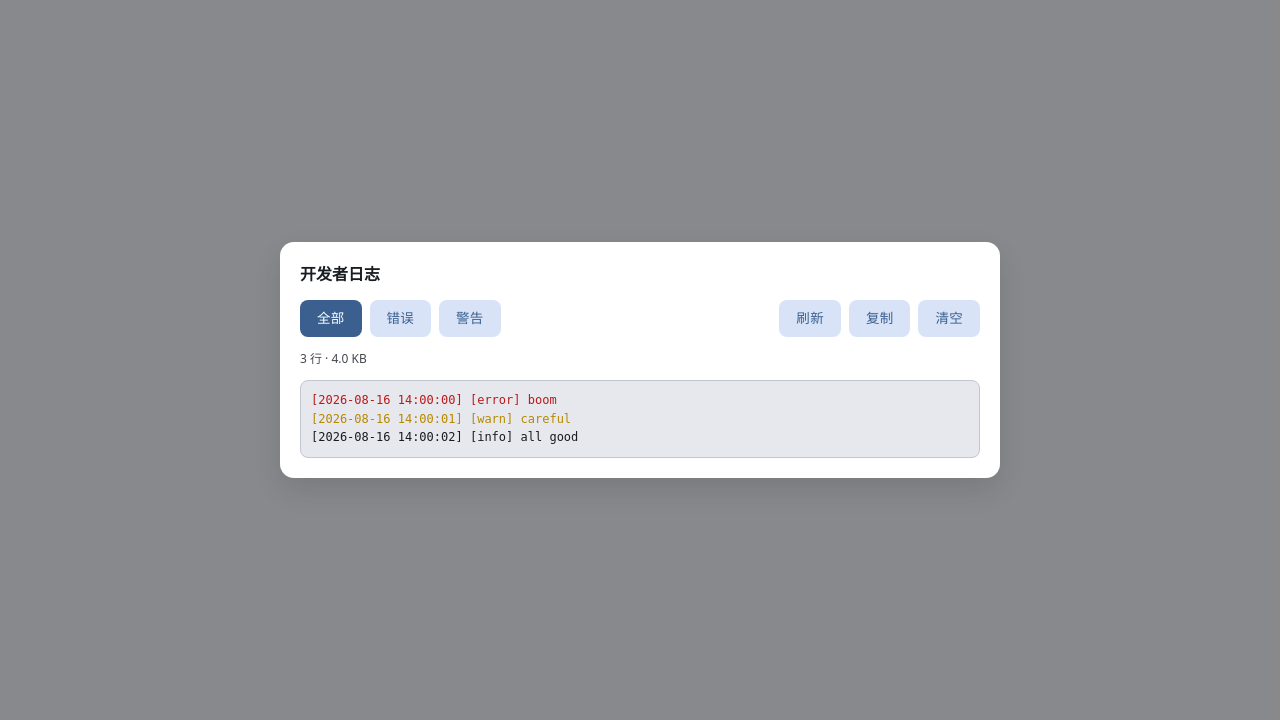
Test: DeveloperLogDialog › filters by error level
Expected: the text "[2026-08-16 14:00:00] [error] boom" is shown, [311, 393, 557, 407]
Click the button "错误" at (400, 318), box [370, 300, 431, 337]
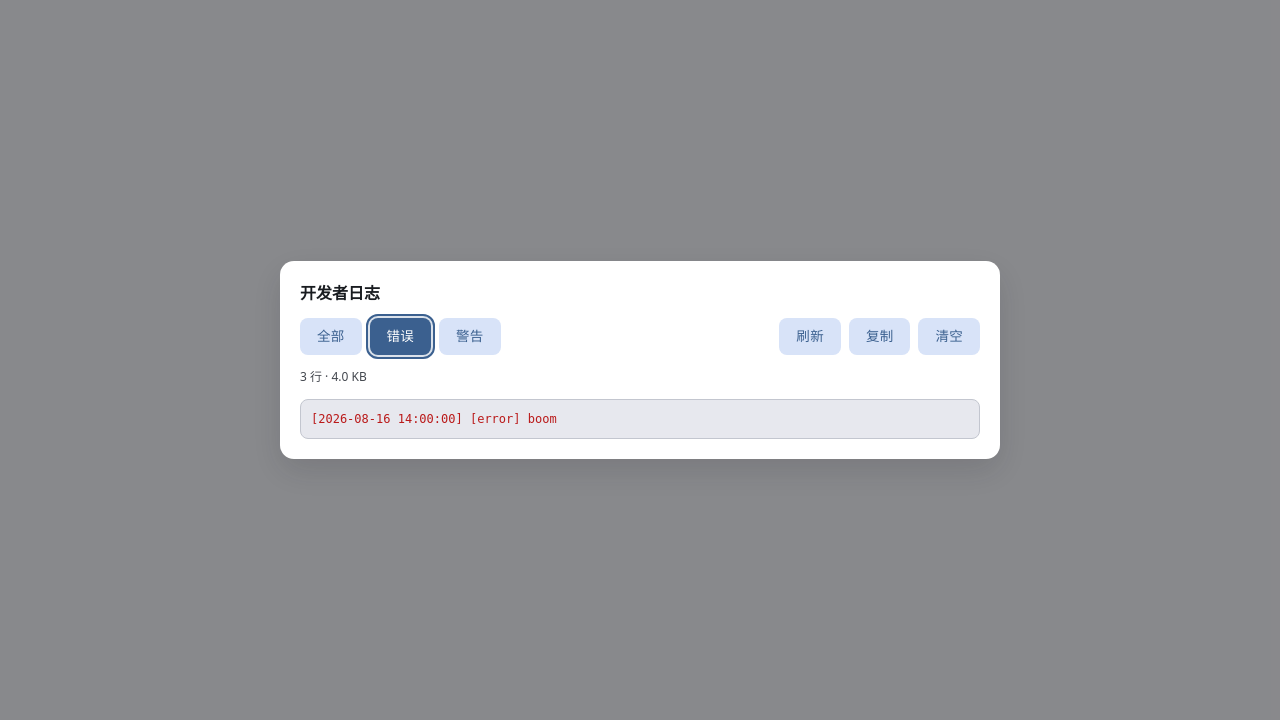
Expected: the text "[2026-08-16 14:00:00] [error] boom" is shown, [311, 412, 557, 426]
Expected: the text "all good" is gone
Expected: the text "careful" is gone
